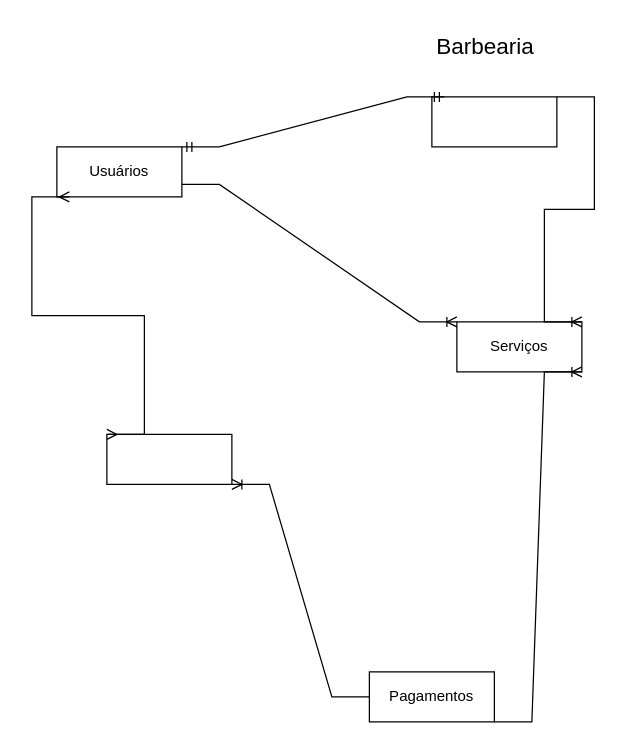
Image size: 626x754. Some labels were removed from this diagram. Here are the shapes that lost their labels. From the top down, the centre of each, then its label:
pixel 494 121: Funcionários
pixel 169 458: Produtos
